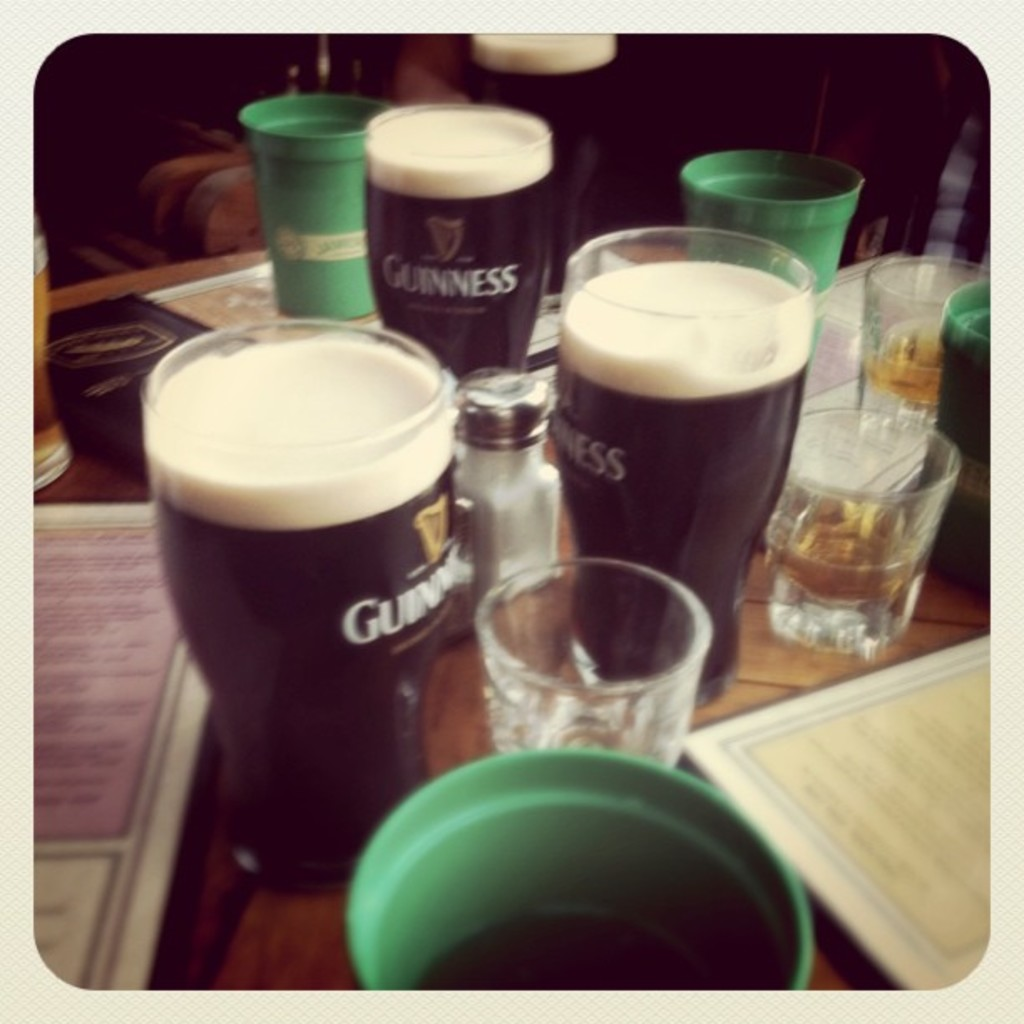Beer: (143, 344, 456, 878), (558, 256, 791, 697), (368, 110, 555, 374), (463, 23, 617, 145)
